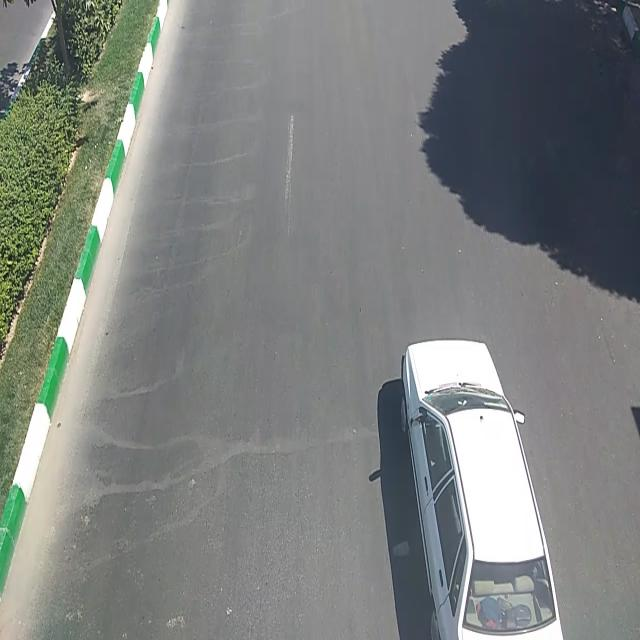car: (400, 343, 570, 640)
